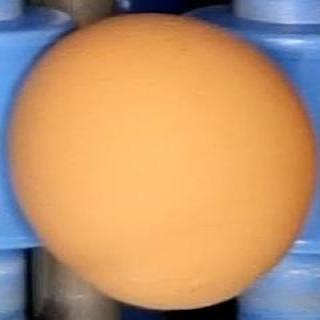Telur: (8, 11, 313, 308)
